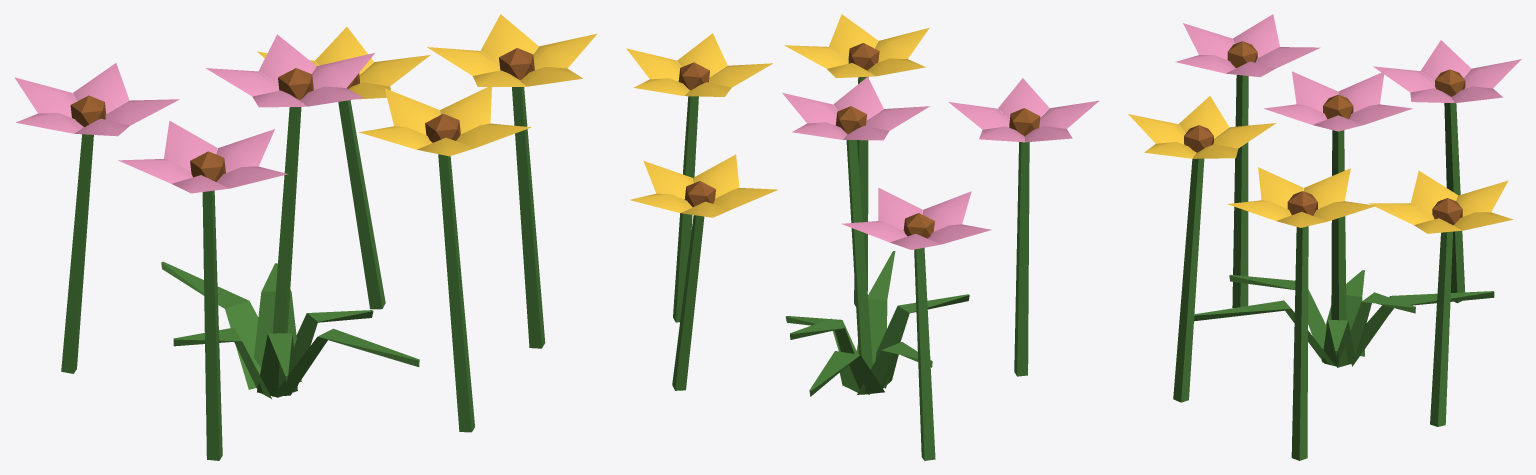
The model's file is flower-patch.glb.
3 renders of one model, left to right at view 1: azimuth 30°, elevation 25°; view 2: azimuth 150°, elevation 25°; view 3: azimuth 270°, elevation 25°, orthographic. The views are drawn at different scales.
Visible parts, largest first — view 1: FlowerPatch_Stems, FlowerPatch_PetalsPink, FlowerPatch_PetalsYellow, FlowerPatch_Centers; view 2: FlowerPatch_Stems, FlowerPatch_PetalsYellow, FlowerPatch_PetalsPink, FlowerPatch_Centers; view 3: FlowerPatch_Stems, FlowerPatch_PetalsYellow, FlowerPatch_PetalsPink, FlowerPatch_Centers.
Part boxes in pixels (bbox=[...]): FlowerPatch_Stems: bbox=[61, 87, 545, 460]; FlowerPatch_PetalsPink: bbox=[14, 34, 374, 193]; FlowerPatch_PetalsYellow: bbox=[257, 14, 597, 156]; FlowerPatch_Centers: bbox=[70, 48, 534, 181]; FlowerPatch_Stems: bbox=[672, 76, 1029, 460]; FlowerPatch_PetalsYellow: bbox=[626, 14, 929, 217]; FlowerPatch_PetalsPink: bbox=[782, 77, 1099, 249]; FlowerPatch_Centers: bbox=[678, 43, 1040, 238]; FlowerPatch_Stems: bbox=[1173, 75, 1494, 460]; FlowerPatch_PetalsYellow: bbox=[1128, 96, 1513, 233]; FlowerPatch_PetalsPink: bbox=[1175, 14, 1521, 131]; FlowerPatch_Centers: bbox=[1184, 41, 1465, 224].
Size of the model in its own units: 2.53 by 1.54 by 1.99.
